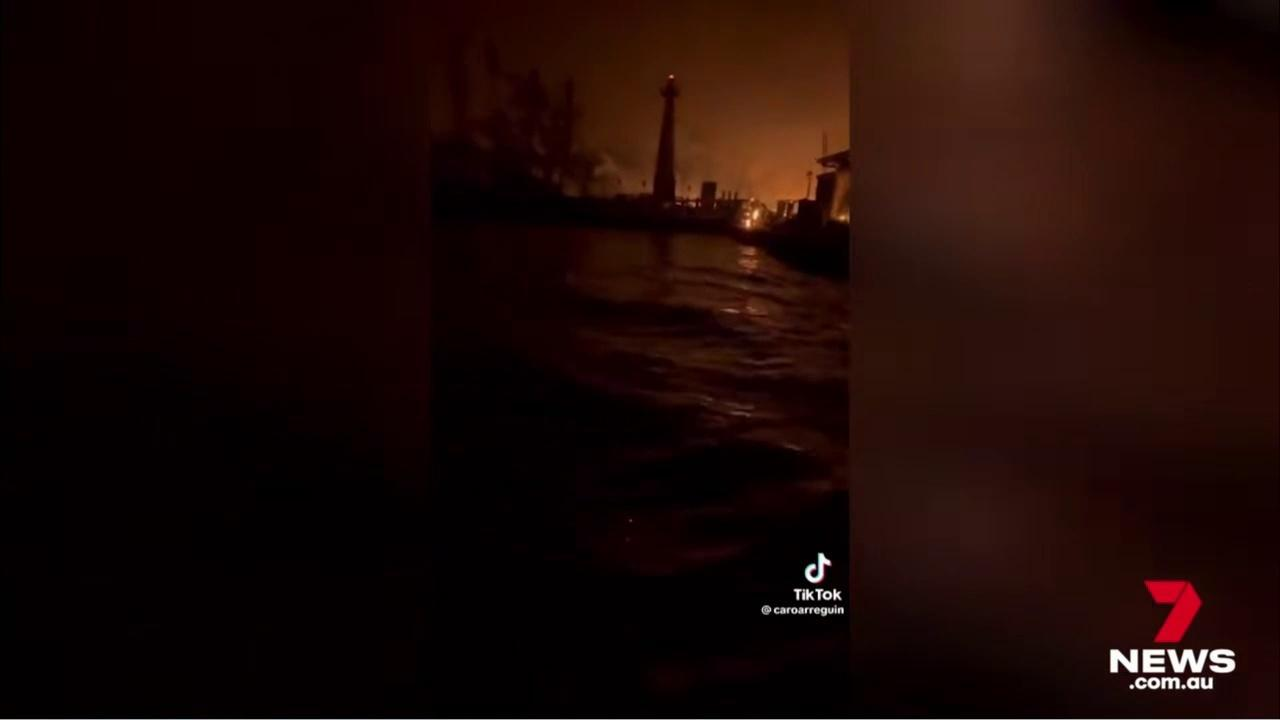smoke: (434, 1, 849, 203), (742, 209, 761, 230)
